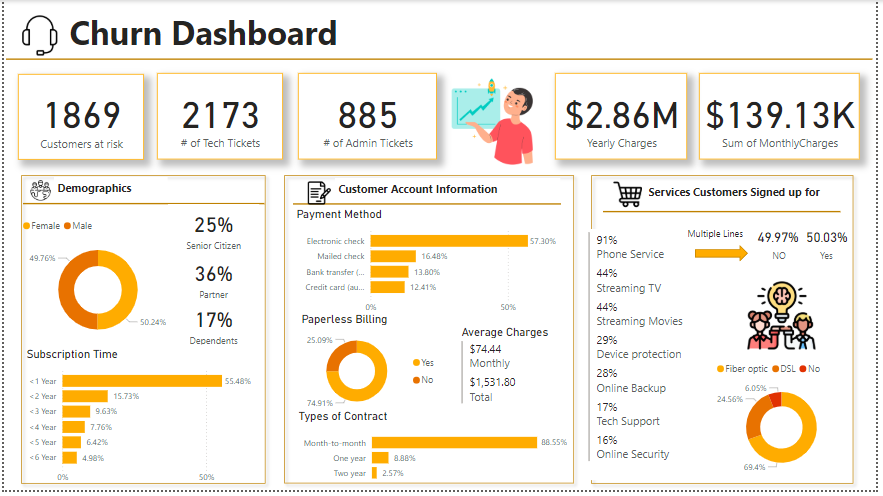

The page's visual inventory and layout, read from the dashboard file:
{"tool":"powerbi","page":{"name":"Page 2","canvas":[1280,720],"ordinal":1},"visuals":[{"type":"textbox","box":[10,0,280,280],"z":0},{"type":"textbox","box":[90.4,8.9,510.7,78],"z":1000},{"type":"shape","box":[3.5,74.5,1273.3,23.9],"z":2000},{"type":"card","fields":{"Values":["CountNonNull(01 Churn-Dataset.customerID)"]},"box":[20.6,108.7,185.1,126.4],"z":3000},{"type":"card","fields":{"Values":["Sum(01 Churn-Dataset.numTechTickets)"]},"box":[225.5,106.9,184.7,127.3],"z":4000},{"type":"card","fields":{"Values":["Sum(01 Churn-Dataset.MonthlyCharges)"]},"box":[1021.5,106.9,236.2,127.3],"z":5000},{"type":"card","fields":{"Values":["Sum(01 Churn-Dataset.numAdminTickets)"]},"box":[431.5,106.9,204.1,127.3],"z":6000},{"type":"card","fields":{"Values":["Sum(01 Churn-Dataset.TotalCharges)"]},"box":[809.6,106.9,194.4,127.3],"z":7000},{"type":"shape","box":[16.5,248.8,377.1,471.4],"z":8000},{"type":"textbox","box":[74,260,167,40],"z":9000},{"type":"shape","box":[27.2,286.7,354.7,25.3],"z":10000},{"type":"donutChart","fields":{"Category":["01 Churn-Dataset.gender"],"Y":["CountNonNull(01 Churn-Dataset.gender)"]},"box":[22,312,232,200],"z":11000},{"type":"card","fields":{"Values":["Churn.% of Senior Citizen"]},"box":[241,300,134,73],"z":12000},{"type":"card","fields":{"Values":["Churn.% of Partner"]},"box":[241,373,134,70],"z":13000},{"type":"card","fields":{"Values":["Churn.% of Dependents"]},"box":[241,443,134,69],"z":14000},{"type":"clusteredBarChart","title":"Subscription Time","fields":{"Y":["CountNonNull(Churn.Churn)"],"Category":["Churn.Tenure (In years)"]},"box":[28.2,510.1,351.8,209.9],"z":15000},{"type":"shape","box":[402,249,444,471],"z":16000},{"type":"shape","box":[853.3,248.8,403.3,471.4],"z":17000},{"type":"textbox","box":[487,261,331,40],"z":18000},{"type":"shape","box":[424.7,288.7,393.6,23.3],"z":19000},{"type":"clusteredBarChart","title":"Payment Method","fields":{"Category":["Churn.PaymentMethod"],"Y":["CountNonNull(Churn.PaymentMethod)"]},"box":[424.7,304.2,403.3,165.2],"z":20000},{"type":"donutChart","title":"Paperless Billing","fields":{"Category":["Churn.PaperlessBilling"],"Y":["CountNonNull(Churn.PaperlessBilling)"]},"box":[431.5,457.8,213.8,154.5],"z":21000},{"type":"multiRowCard","title":"Average Charges","fields":{"Values":["Avg(Churn.MonthlyCharges)","Avg(Churn.TotalCharges)"]},"box":[667,478,161,123],"z":22000},{"type":"clusteredBarChart","title":"Types of Contract","fields":{"Category":["Churn.Contract"],"Y":["CountNonNull(Churn.Contract)"]},"box":[427,601,405,117],"z":23000},{"type":"multiRowCard","fields":{"Values":["Churn.% Phone Service","Churn.% Streaming TV","Churn.% Streaming Movies","Churn.% Device protection","Churn.% Online Backup","Churn.% Tech Support","Churn.% Online Sec."]},"box":[853.7,336.5,177.8,368.8],"z":24000},{"type":"shape","box":[1015.6,360.6,77.8,24.3],"z":25000},{"type":"textbox","box":[999.1,329.5,106.9,31.1],"z":26000},{"type":"card","fields":{"Values":["Churn.% NO-Multiple lines"]},"box":[1099.2,323.6,75.8,67.1],"z":27000},{"type":"card","fields":{"Values":["Churn.% Yes-Multiple Lines"]},"box":[1166.3,320.7,83.6,74.8],"z":28000},{"type":"donutChart","title":"Paperless Billing","fields":{"Category":["Churn.InternetService"],"Y":["CountNonNull(Churn.InternetService)"]},"box":[1042,522,201,184],"z":29000},{"type":"image","box":[16.5,17.5,73.9,69],"z":30000},{"type":"image","box":[890.3,258.5,51.5,53.5],"z":32000},{"type":"image","box":[439.3,261.4,47.6,43.7],"z":33000},{"type":"image","box":[34,258.5,39.8,42.8],"z":34000},{"type":"textbox","box":[941.8,265.3,300.3,31.1],"z":35000},{"type":"shape","box":[879.6,299.3,348.9,22.4],"z":36000},{"type":"image","box":[1087.6,408.2,110.8,109.8],"z":37000},{"type":"image","box":[640.5,99.1,153.6,159.4],"z":38000}]}

Visuals, with their boxes in screenshot pixels (x1, y1, x2, y2), scaled from the page's 1280x720 canvas onto the 883x496 screenshot:
textbox: 7, 0, 200, 193
textbox: 62, 6, 415, 60
shape: 2, 51, 881, 68
card - CountNonNull(01 Churn-Dataset.customerID): 14, 75, 142, 162
card - Sum(01 Churn-Dataset.numTechTickets): 156, 74, 283, 161
card - Sum(01 Churn-Dataset.MonthlyCharges): 705, 74, 868, 161
card - Sum(01 Churn-Dataset.numAdminTickets): 298, 74, 438, 161
card - Sum(01 Churn-Dataset.TotalCharges): 558, 74, 693, 161
shape: 11, 171, 272, 495
textbox: 51, 179, 166, 207
shape: 19, 198, 263, 215
donutChart - 01 Churn-Dataset.gender x CountNonNull(01 Churn-Dataset.gender): 15, 215, 175, 353
card - Churn.% of Senior Citizen: 166, 207, 259, 257
card - Churn.% of Partner: 166, 257, 259, 305
card - Churn.% of Dependents: 166, 305, 259, 353
"Subscription Time" clusteredBarChart: 19, 351, 262, 495
shape: 277, 172, 584, 495
shape: 589, 171, 867, 495
textbox: 336, 180, 564, 207
shape: 293, 199, 564, 215
"Payment Method" clusteredBarChart: 293, 210, 571, 323
"Paperless Billing" donutChart: 298, 315, 445, 422
"Average Charges" multiRowCard: 460, 329, 571, 414
"Types of Contract" clusteredBarChart: 295, 414, 574, 495
multiRowCard - Churn.% Phone Service x Churn.% Streaming TV: 589, 232, 712, 486
shape: 701, 248, 754, 265
textbox: 689, 227, 763, 248
card - Churn.% NO-Multiple lines: 758, 223, 811, 269
card - Churn.% Yes-Multiple Lines: 805, 221, 862, 272
"Paperless Billing" donutChart: 719, 360, 857, 486
image: 11, 12, 62, 60
image: 614, 178, 650, 215
image: 303, 180, 336, 210
image: 23, 178, 51, 208
textbox: 650, 183, 857, 204
shape: 607, 206, 847, 222
image: 750, 281, 827, 357
image: 442, 68, 548, 178
